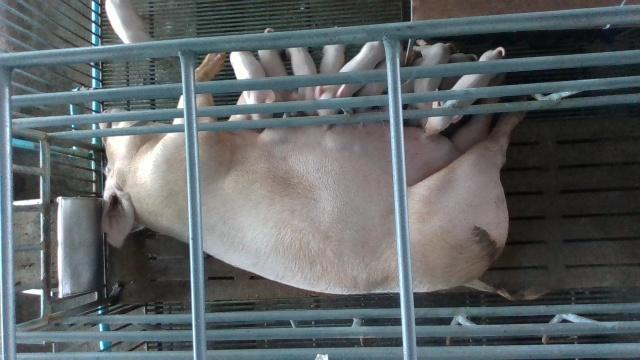piglet: (425, 48, 505, 137), (318, 40, 385, 132), (413, 38, 457, 129), (230, 51, 275, 119), (314, 44, 345, 130), (285, 48, 317, 117), (105, 1, 152, 44), (353, 59, 388, 114)
sow-sleep-lactate: (99, 53, 528, 290)
